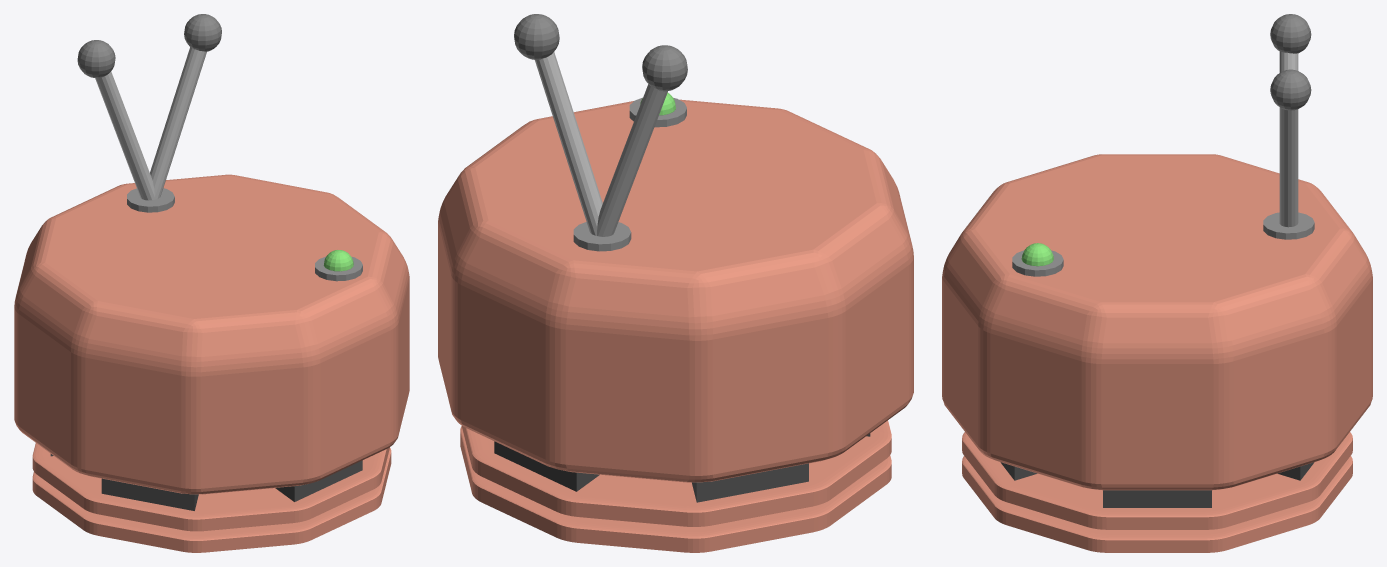
The model's file is FloatingSmallBot.fbx.
3 views of the same model, side by side, from view 1: azimuth 30°, elevation 25°; view 2: azimuth 150°, elevation 25°; view 3: azimuth 270°, elevation 25° (orthographic). The views are drawn at different scales.
Parts seen in each view (by area): view 1: Cylinder, Cylinder.002, Cylinder.004, Cylinder.005, Cylinder.001, Cylinder.006, Sphere, Sphere.001, Cylinder.007, Cylinder.008, Sphere.002; view 2: Cylinder, Cylinder.002, Cylinder.004, Cylinder.005, Cylinder.001, Cylinder.006, Sphere, Sphere.001, Cylinder.007, Cylinder.008; view 3: Cylinder, Cylinder.002, Cylinder.004, Cylinder.001, Cylinder.005, Sphere.001, Sphere, Cylinder.007, Cylinder.008, Sphere.002.
Boxes of the visible parts, x1,y1,x2,y2 form: Cylinder: [14, 174, 409, 494]; Cylinder.002: [32, 443, 389, 531]; Cylinder.004: [32, 448, 391, 552]; Cylinder.005: [150, 47, 206, 199]; Cylinder.001: [50, 454, 362, 510]; Cylinder.006: [95, 71, 155, 200]; Sphere: [77, 40, 115, 77]; Sphere.001: [184, 14, 221, 51]; Cylinder.007: [127, 188, 174, 212]; Cylinder.008: [315, 256, 362, 281]; Sphere.002: [323, 250, 353, 271]; Cylinder: [438, 99, 913, 482]; Cylinder.002: [462, 420, 891, 526]; Cylinder.004: [460, 426, 891, 552]; Cylinder.005: [535, 52, 602, 235]; Cylinder.001: [494, 433, 870, 502]; Cylinder.006: [597, 84, 667, 236]; Sphere: [642, 45, 687, 91]; Sphere.001: [514, 14, 559, 59]; Cylinder.007: [573, 222, 631, 251]; Cylinder.008: [629, 97, 686, 127]; Cylinder: [942, 154, 1372, 490]; Cylinder.002: [962, 432, 1352, 529]; Cylinder.004: [962, 456, 1352, 552]; Cylinder.001: [1000, 462, 1314, 507]; Cylinder.005: [1279, 107, 1298, 227]; Sphere.001: [1270, 69, 1311, 110]; Sphere: [1270, 14, 1311, 53]; Cylinder.007: [1263, 212, 1314, 239]; Cylinder.008: [1012, 250, 1063, 276]; Sphere.002: [1021, 243, 1053, 266].
Size of the model in its own units: 190 by 219 by 198.
